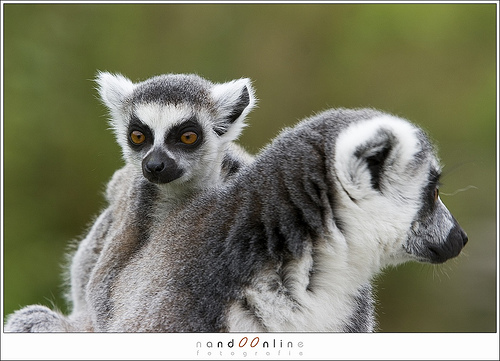cat: (101, 107, 468, 332), (64, 69, 250, 321)
